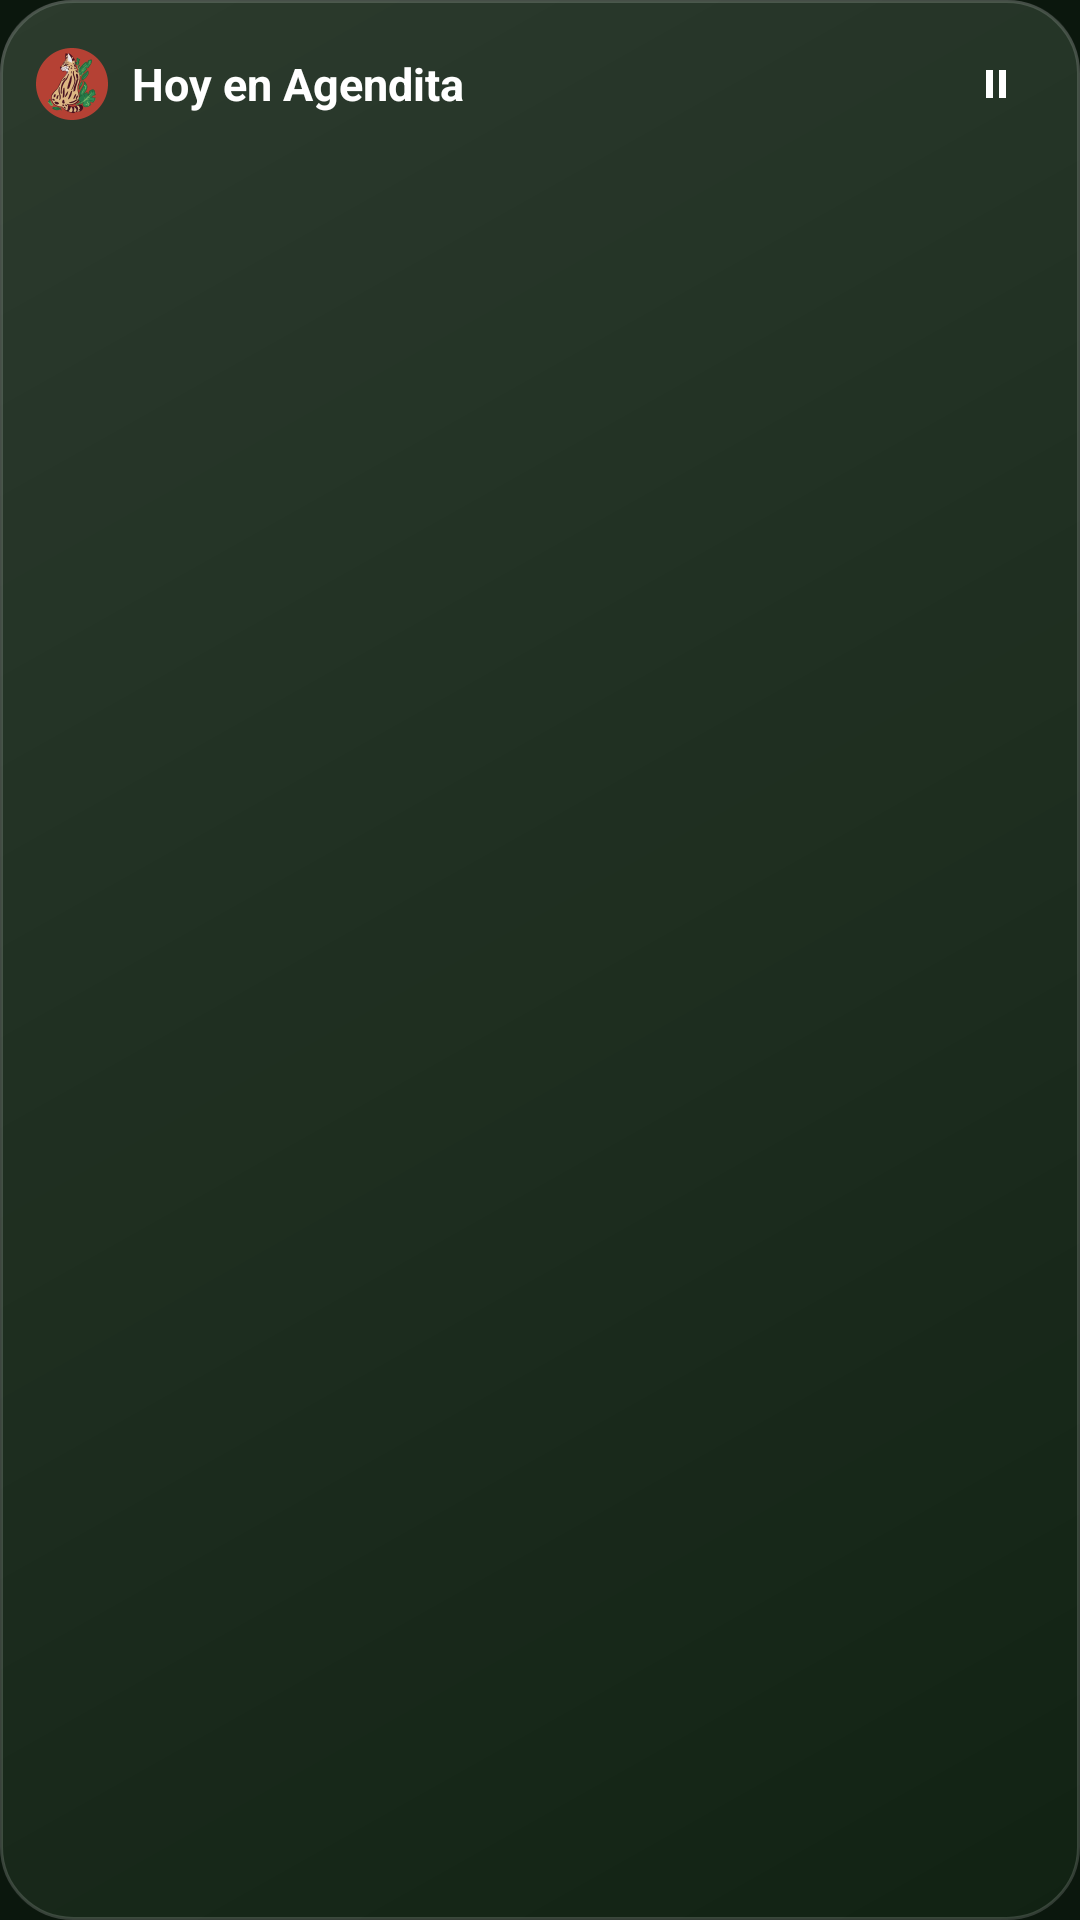

Icon click points for this 1080 x 1920 phone screenshot, format point (x, y):
Pausar: point (996, 84)
